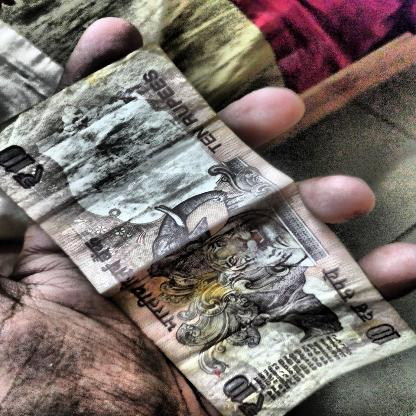Rs10: (215, 370, 277, 416), (358, 319, 408, 350)
